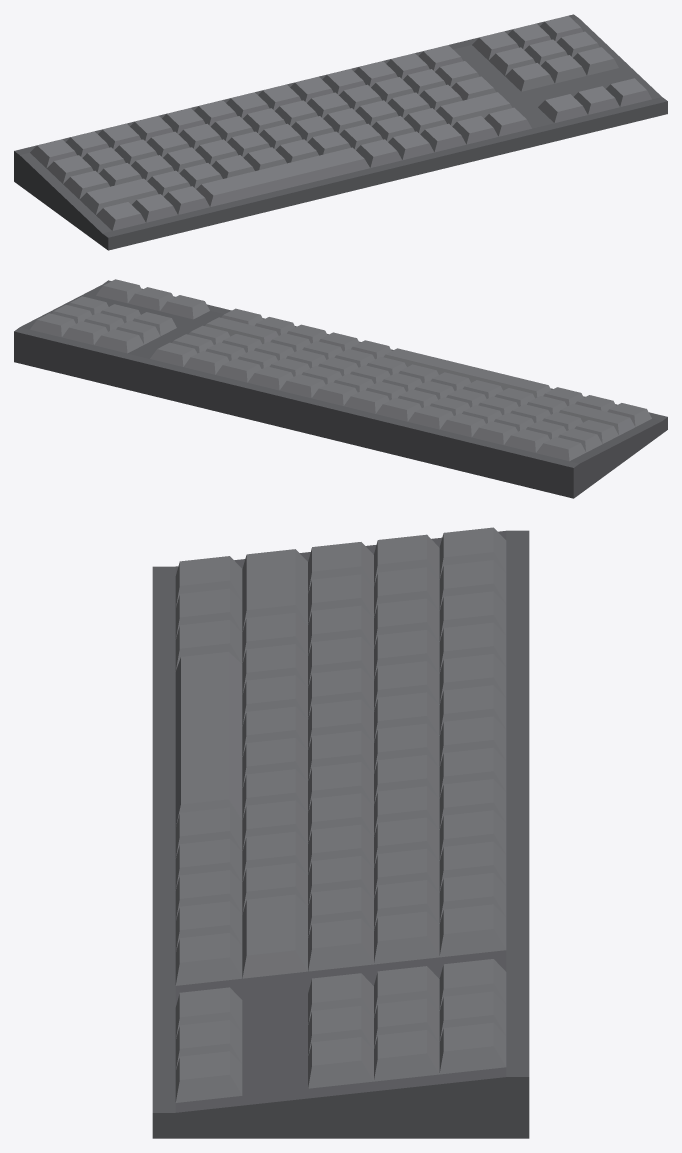
Rendered from keyboard.fbx.
3 views of the same model, one above another, from view 1: azimuth 30°, elevation 25°; view 2: azimuth 150°, elevation 25°; view 3: azimuth 270°, elevation 25° (orthographic). The views are drawn at different scales.
Parts seen in each view (by area): view 1: keyboard; view 2: keyboard; view 3: keyboard.
Part boxes in pixels (x1,y1,x2,y2): keyboard: (14, 14, 667, 250); keyboard: (14, 279, 667, 498); keyboard: (152, 527, 529, 1138).
Size of the model in its own units: 71.41 by 4.79 by 20.82.
